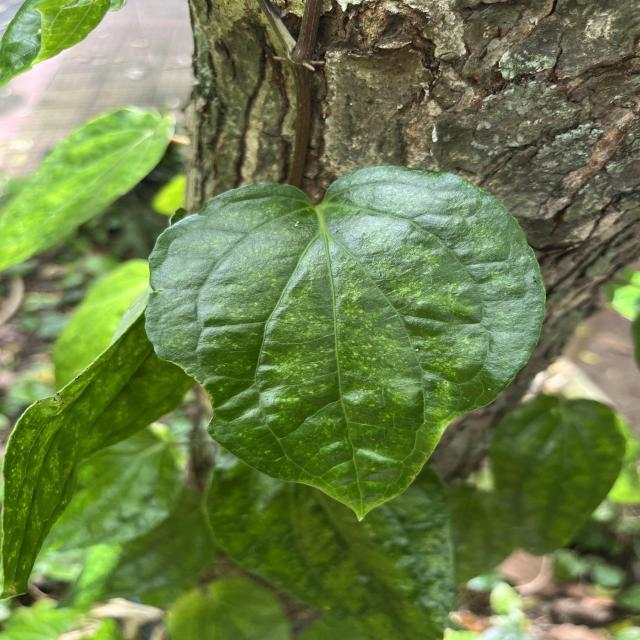Piper betle: (139, 160, 551, 527)
